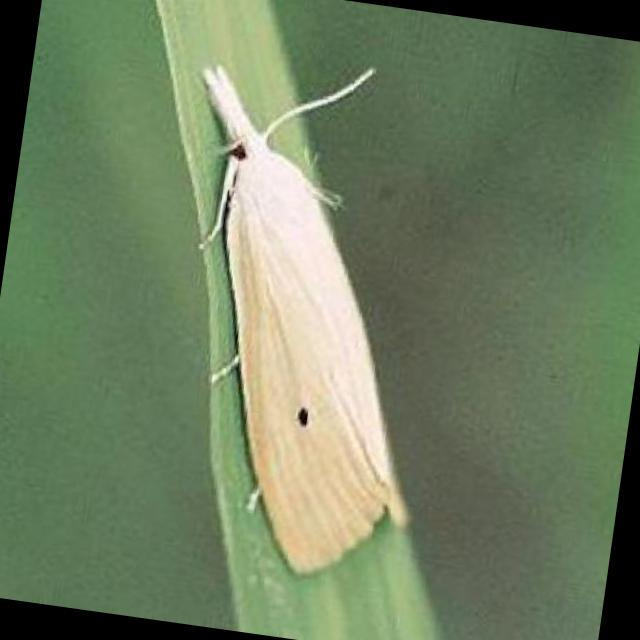stem-borer: (128, 39, 474, 590)
